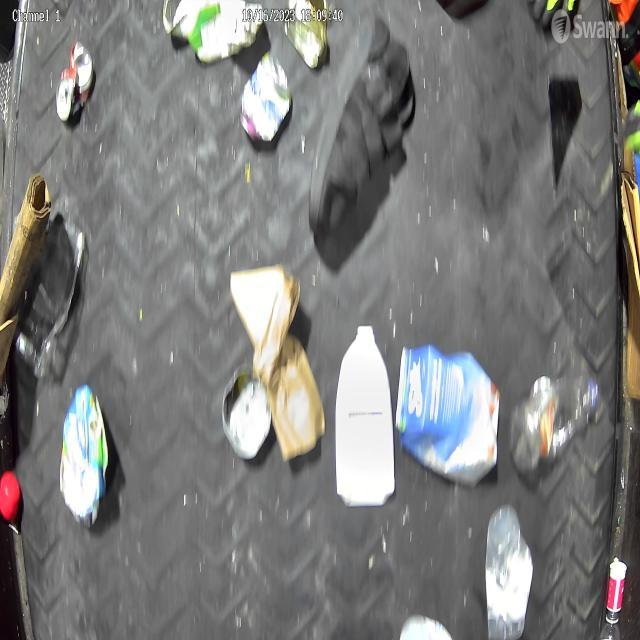can: (392, 320, 489, 458), (239, 59, 293, 143), (58, 32, 94, 120)
milk_jug: (337, 323, 396, 509)
